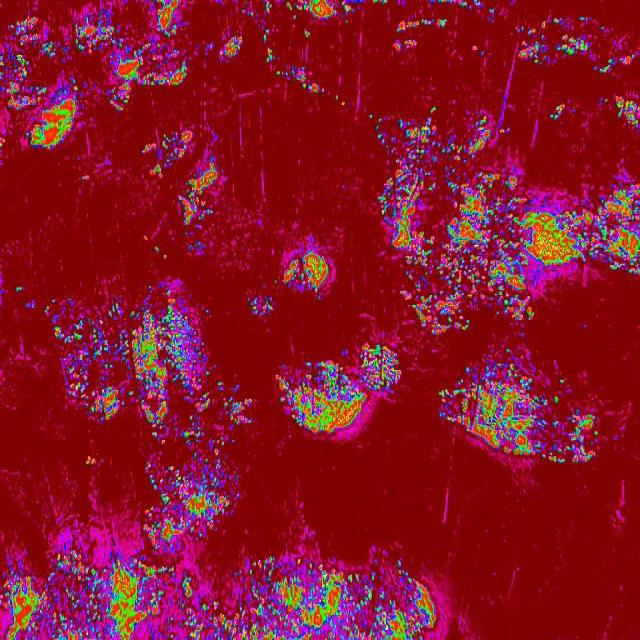fire: (0, 550, 442, 640), (368, 104, 538, 334), (42, 284, 215, 446), (437, 356, 602, 466), (273, 340, 406, 438), (537, 180, 640, 302), (0, 17, 84, 157), (141, 127, 228, 259), (140, 452, 242, 548), (108, 50, 192, 110), (512, 10, 596, 66), (213, 376, 254, 446), (288, 64, 344, 108), (284, 250, 330, 300), (286, 0, 358, 24), (84, 11, 118, 48), (152, 0, 182, 39), (613, 94, 640, 128), (244, 294, 272, 320), (394, 19, 450, 30), (218, 38, 244, 60), (430, 0, 484, 10), (598, 54, 618, 75), (547, 99, 566, 121), (393, 38, 419, 54), (24, 296, 38, 312), (272, 67, 287, 81), (298, 28, 312, 42), (619, 54, 635, 66), (263, 48, 276, 62), (139, 40, 157, 50), (238, 5, 254, 16), (78, 172, 92, 184), (488, 5, 497, 23), (84, 454, 97, 466), (265, 2, 276, 16), (262, 27, 270, 44), (372, 0, 391, 6), (14, 283, 24, 292), (600, 24, 606, 35), (604, 96, 608, 103)
